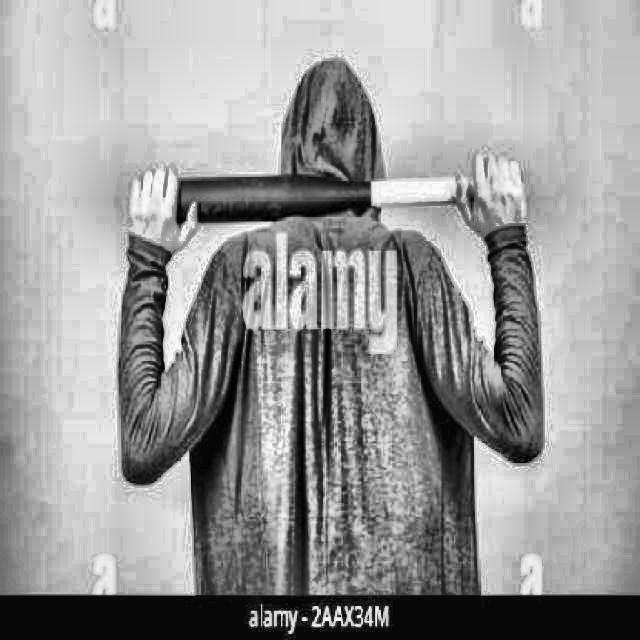tongkat pemukul: (108, 149, 531, 241)
